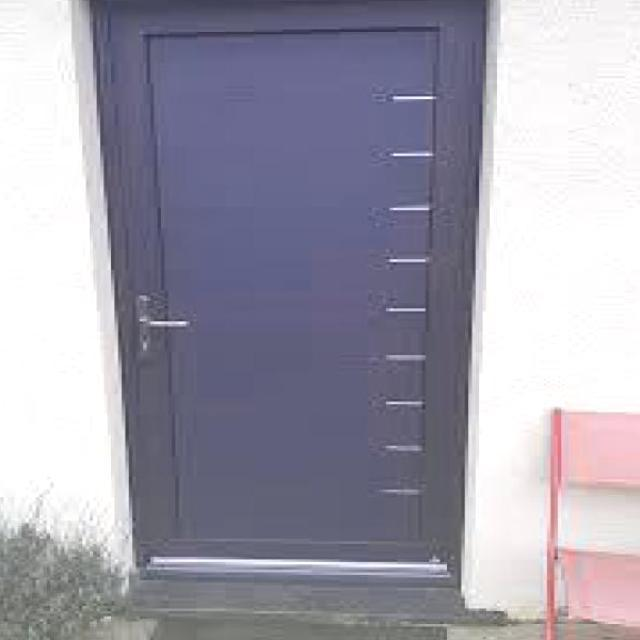door: (93, 1, 485, 585)
